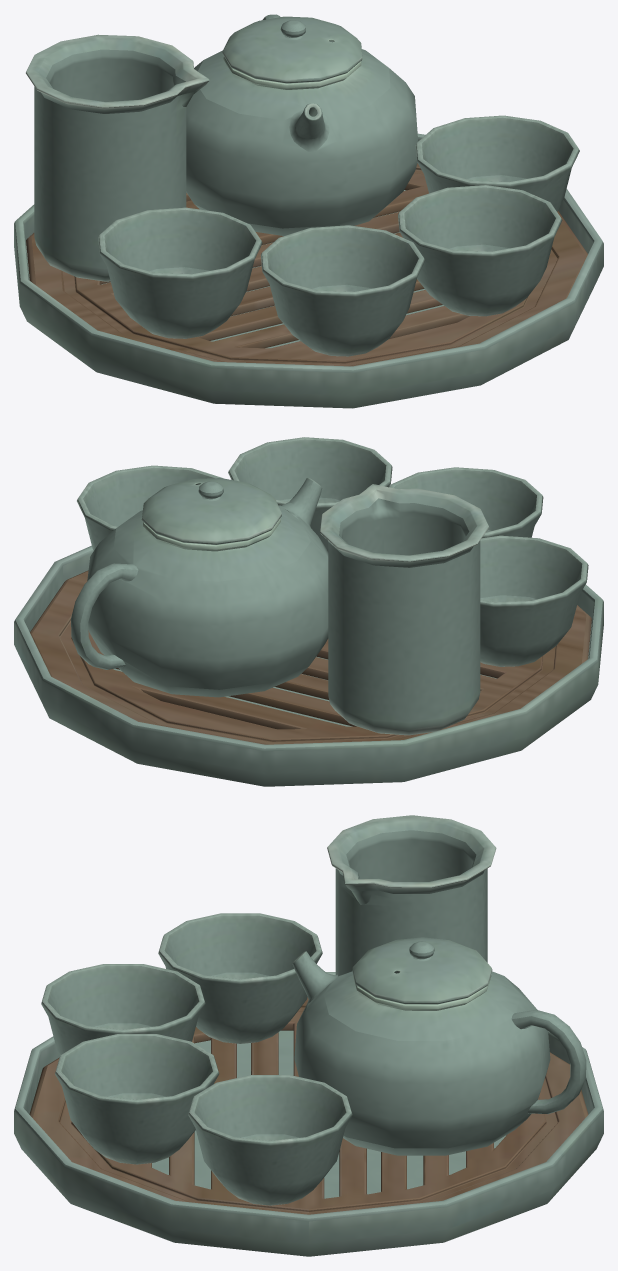
Rendered from teaset.glb.
The picture shows the model from 3 angles, top to bottom: view 1: azimuth 30°, elevation 25°; view 2: azimuth 150°, elevation 25°; view 3: azimuth 270°, elevation 25°; orthographic projection.
Visible parts, largest first — view 1: pCylinder3_aiStandardSurface1_0; view 2: pCylinder3_aiStandardSurface1_0; view 3: pCylinder3_aiStandardSurface1_0.
Boxes of the visible parts, box(x1,y1,x2,y2) form: pCylinder3_aiStandardSurface1_0: box(14, 14, 603, 408); pCylinder3_aiStandardSurface1_0: box(14, 437, 603, 786); pCylinder3_aiStandardSurface1_0: box(14, 815, 603, 1256).
Bounding box in the file's own units: 0.3482 × 0.1446 × 0.3507.
Materials: 1 (1 with a texture image).
